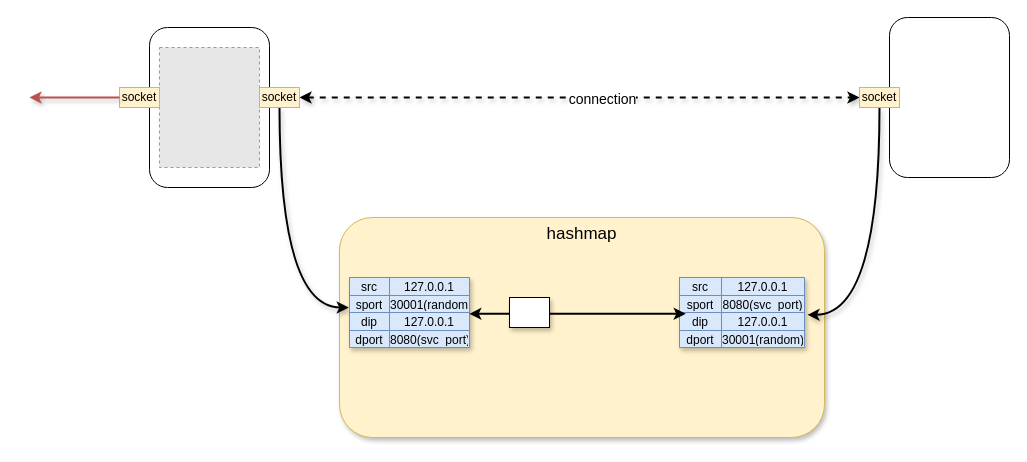
Image size: 1027x462. Some labels were removed from this diagram. Grey dashed boxes stand in for pictures. The centre of each missing label's shape, as x and y in pixels:
"msg" belongs at (x=530, y=313).
"service" belongs at (x=949, y=97).
